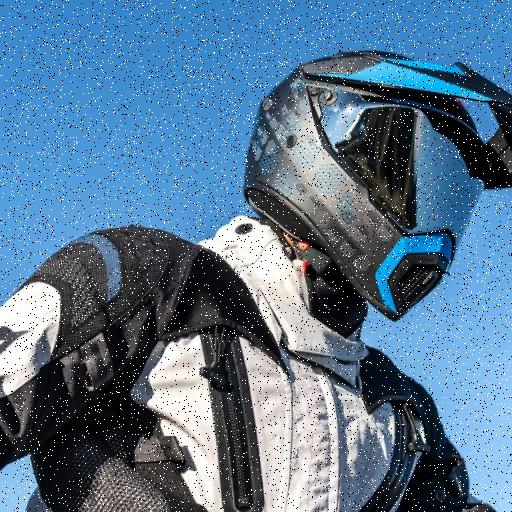Helmet: (249, 34, 512, 314)
